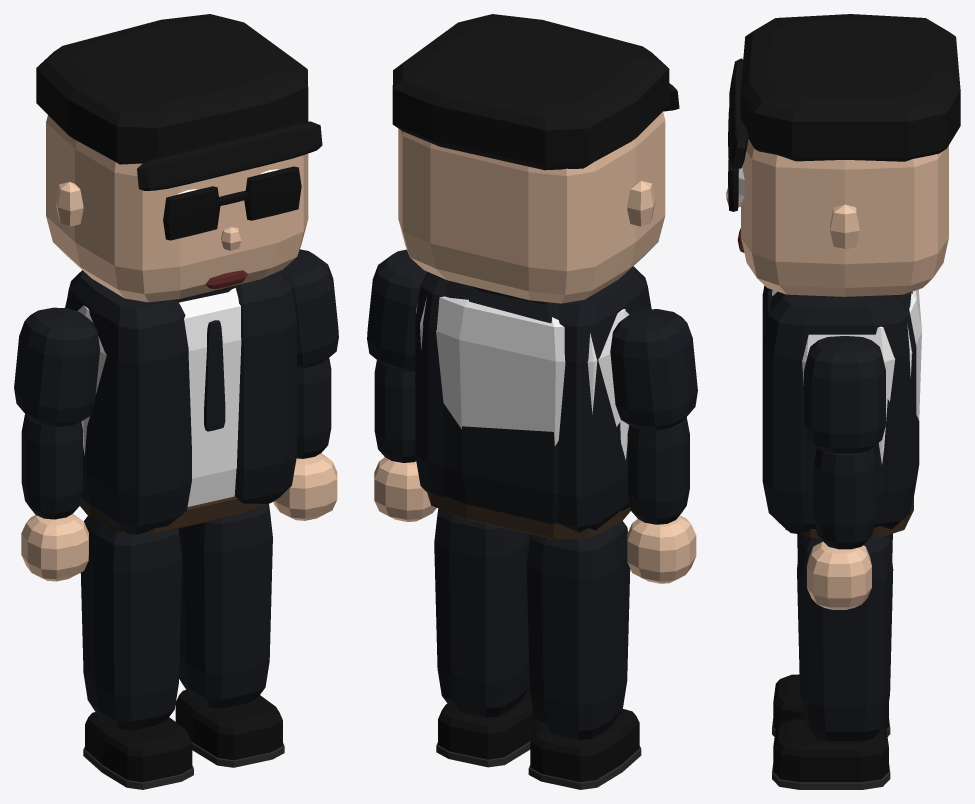
The model's file is hero-q.glb.
3 views of the same model, side by side, from view 1: azimuth 30°, elevation 25°; view 2: azimuth 150°, elevation 25°; view 3: azimuth 270°, elevation 25° (orthographic).
Parts seen in each view (by area): view 1: head, torso, leg-right, leg-left, arm-right, arm-left; view 2: head, torso, leg-right, leg-left, arm-right, arm-left; view 3: head, torso, leg-left, arm-left, leg-right.
Part boxes in pixels (x1,y1,x2,y2): head: (36, 14, 322, 302); torso: (64, 270, 296, 534); leg-right: (80, 516, 193, 789); leg-left: (175, 503, 284, 767); arm-right: (14, 307, 99, 581); arm-left: (273, 249, 338, 520); head: (392, 14, 679, 303); torso: (415, 266, 651, 539); leg-right: (526, 521, 641, 789); leg-left: (434, 508, 539, 767); arm-right: (610, 309, 697, 583); arm-left: (367, 249, 436, 521); head: (726, 14, 960, 296); torso: (762, 285, 921, 537); leg-left: (772, 535, 893, 789); arm-left: (804, 336, 885, 609); leg-right: (772, 533, 892, 736).
Size of the model in its own units: 1.29 by 2.74 by 0.8401.
